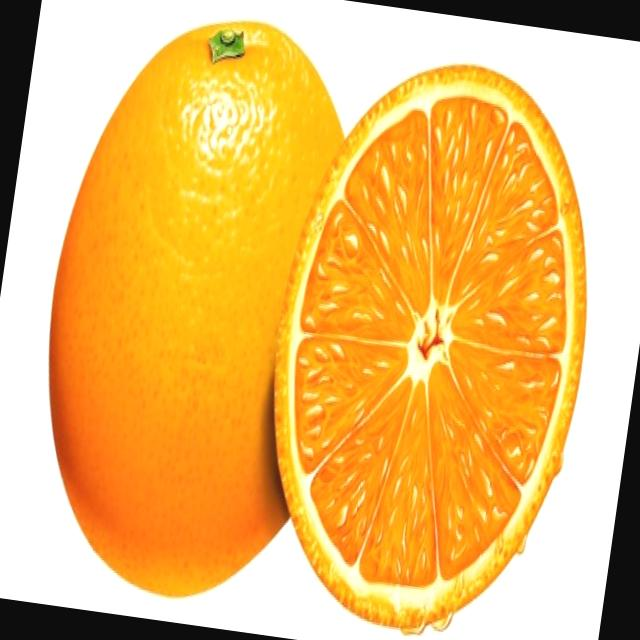orange: (15, 0, 391, 635)
